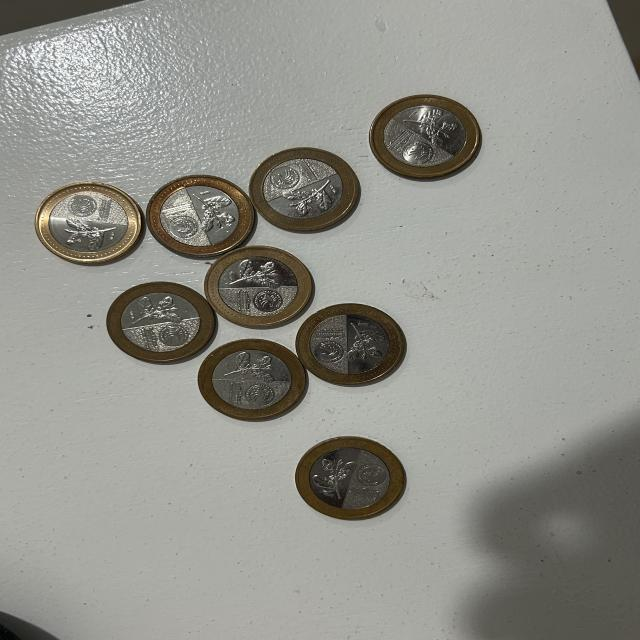20_New_Back: (218, 347, 286, 383), (186, 188, 235, 236), (314, 455, 360, 501), (404, 110, 460, 144), (60, 220, 122, 249), (283, 180, 334, 215), (346, 322, 388, 362), (233, 258, 282, 291), (131, 298, 182, 326)
